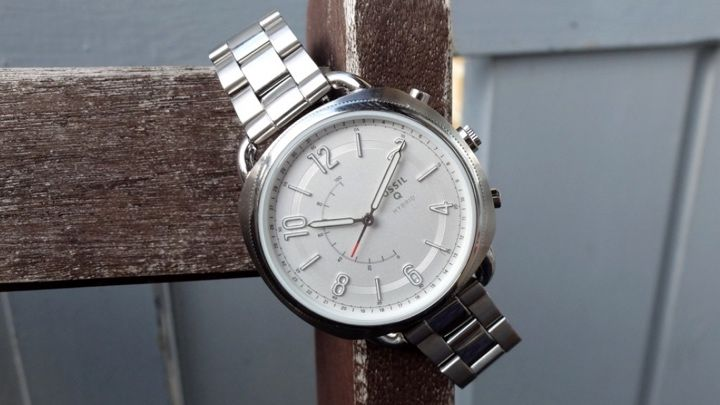clock: (238, 87, 500, 342)
